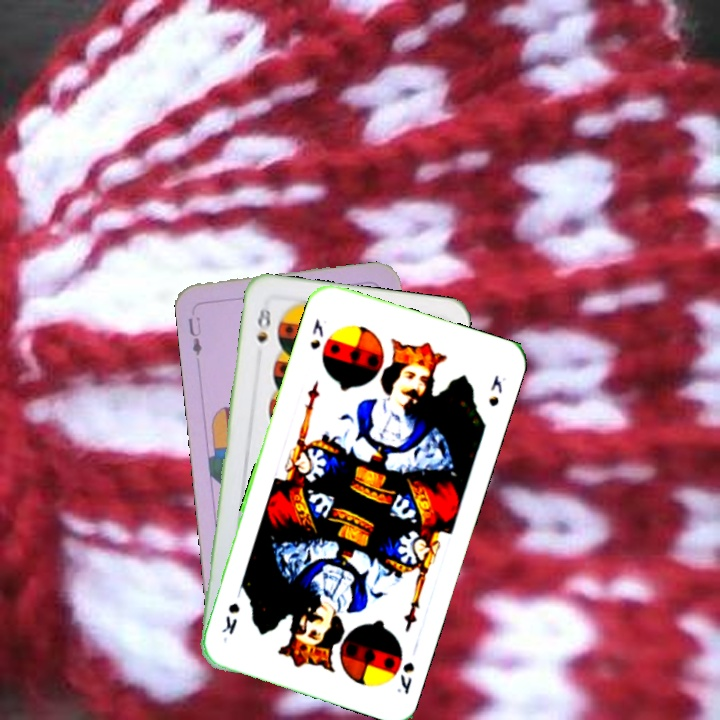EU: (184, 312, 204, 358)
S8: (252, 304, 274, 345)
SK: (393, 658, 417, 697), (306, 314, 326, 352)
